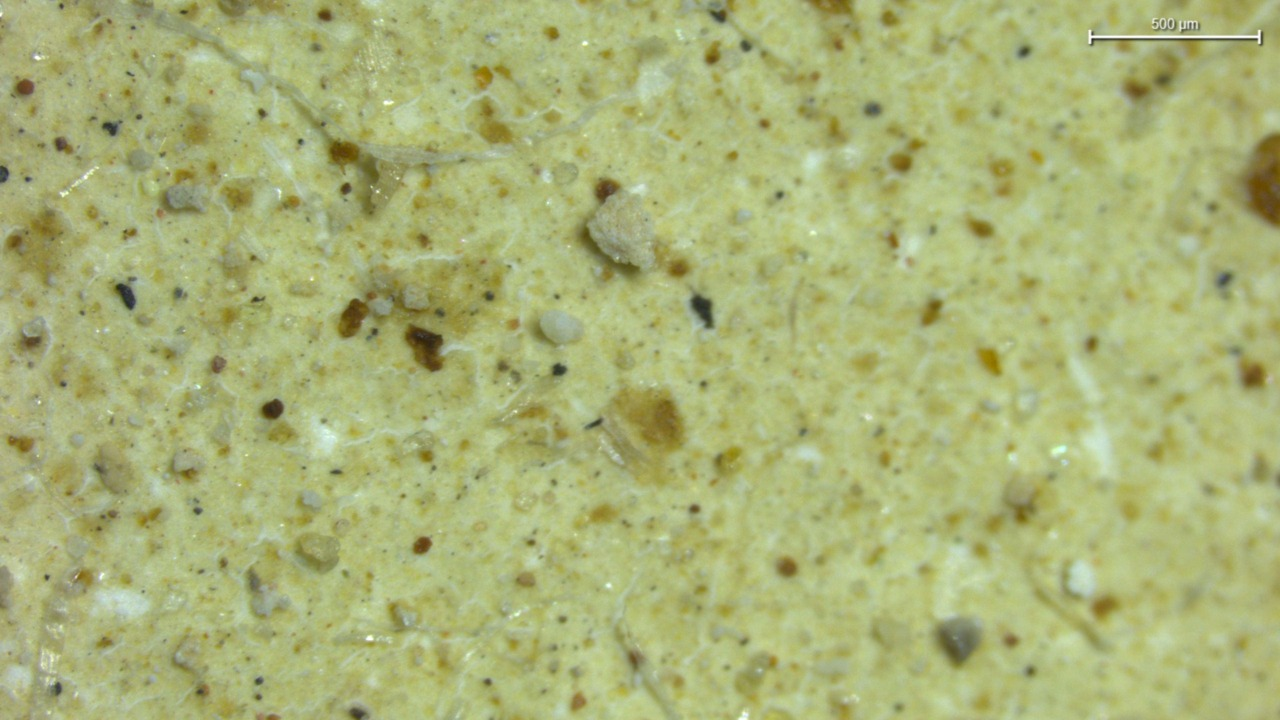microplastic_fragment: (585, 194, 657, 274), (543, 312, 582, 346), (166, 185, 209, 211)
